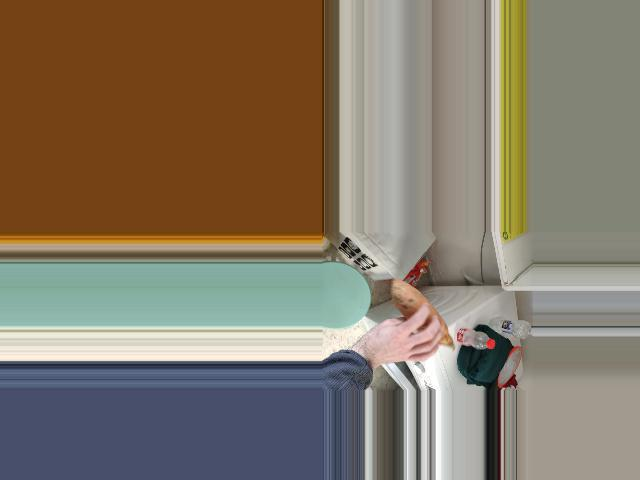sweet_potato: (392, 283, 452, 354)
